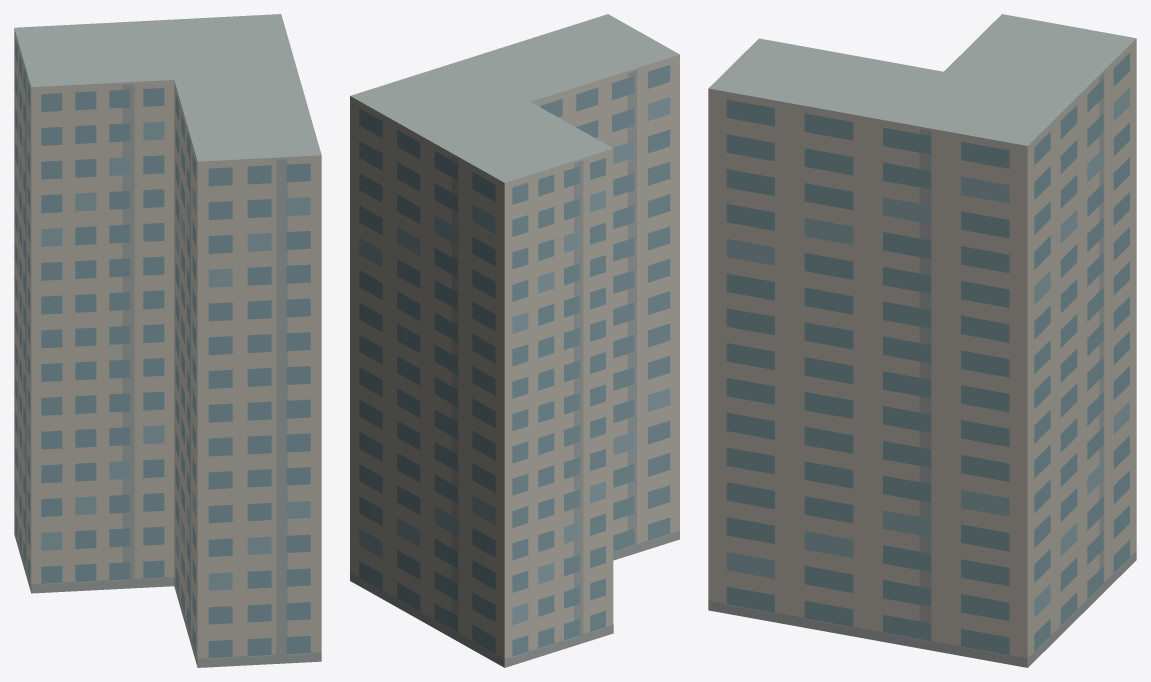
Rendered from residential-11a645a6-2c4d-43a2-be25-f341e09b78ab.glb.
The picture shows the model from 3 angles, left to right: view 1: azimuth 30°, elevation 25°; view 2: azimuth 150°, elevation 25°; view 3: azimuth 270°, elevation 25°; orthographic projection. The views are drawn at different scales.
Parts seen in each view (by area): view 1: residential-11a645a6-2c4d-43a2-be25-f341e09b78ab.tmp; view 2: residential-11a645a6-2c4d-43a2-be25-f341e09b78ab.tmp; view 3: residential-11a645a6-2c4d-43a2-be25-f341e09b78ab.tmp.
Part boxes in pixels (x1,y1,x2,y2): residential-11a645a6-2c4d-43a2-be25-f341e09b78ab.tmp: (14, 14, 321, 667); residential-11a645a6-2c4d-43a2-be25-f341e09b78ab.tmp: (350, 14, 679, 667); residential-11a645a6-2c4d-43a2-be25-f341e09b78ab.tmp: (708, 14, 1136, 667).
Size of the model in its own units: 29.85 by 55 by 40.9.
